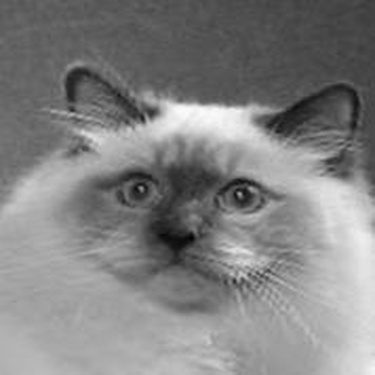cat: (17, 56, 362, 369)
